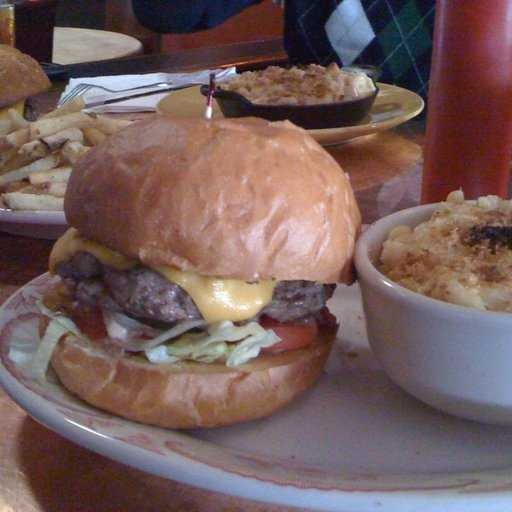hamburger: (63, 83, 356, 432)
